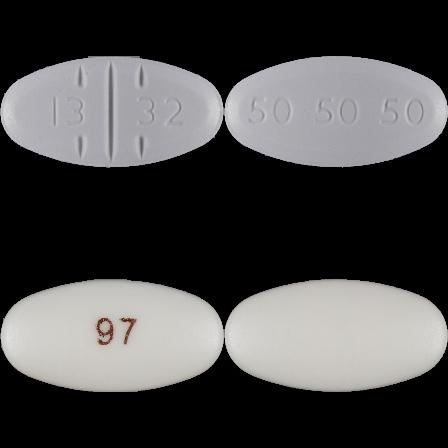13668-332: (0, 0, 224, 224)
